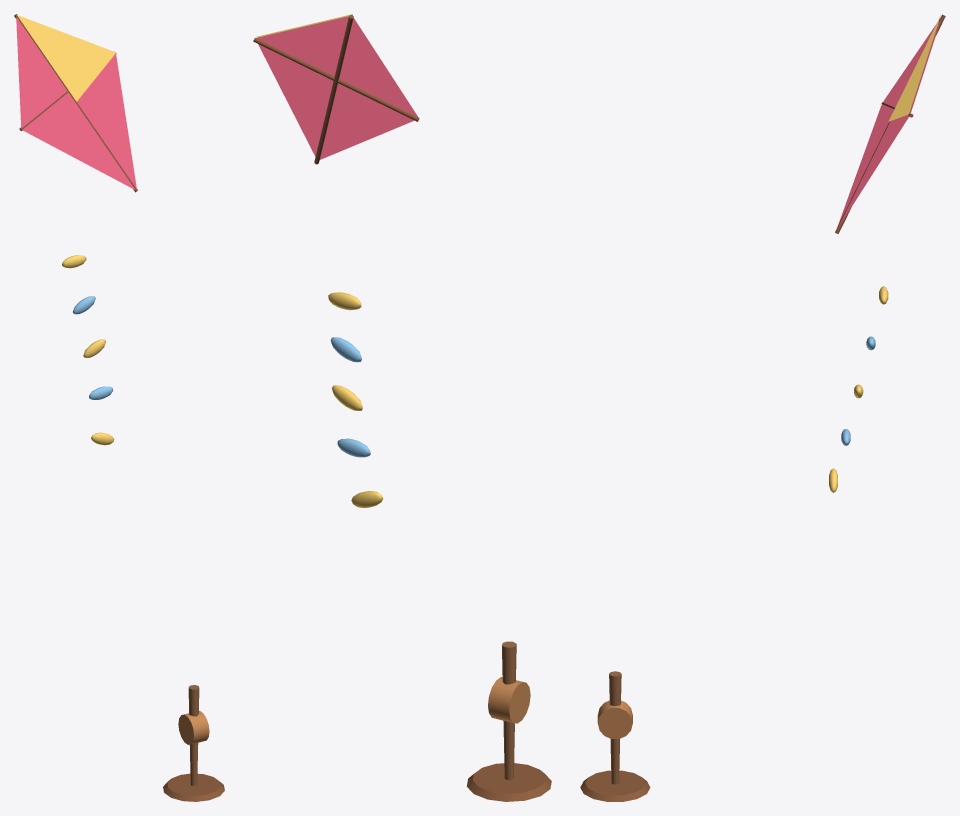
Rendered from kite.glb.
3 renders of one model, left to right at view 1: azimuth 30°, elevation 25°; view 2: azimuth 150°, elevation 25°; view 3: azimuth 270°, elevation 25°, orthographic. The views are drawn at different scales.
Size of the model in its own units: 0.558 by 3.33 by 1.46.
